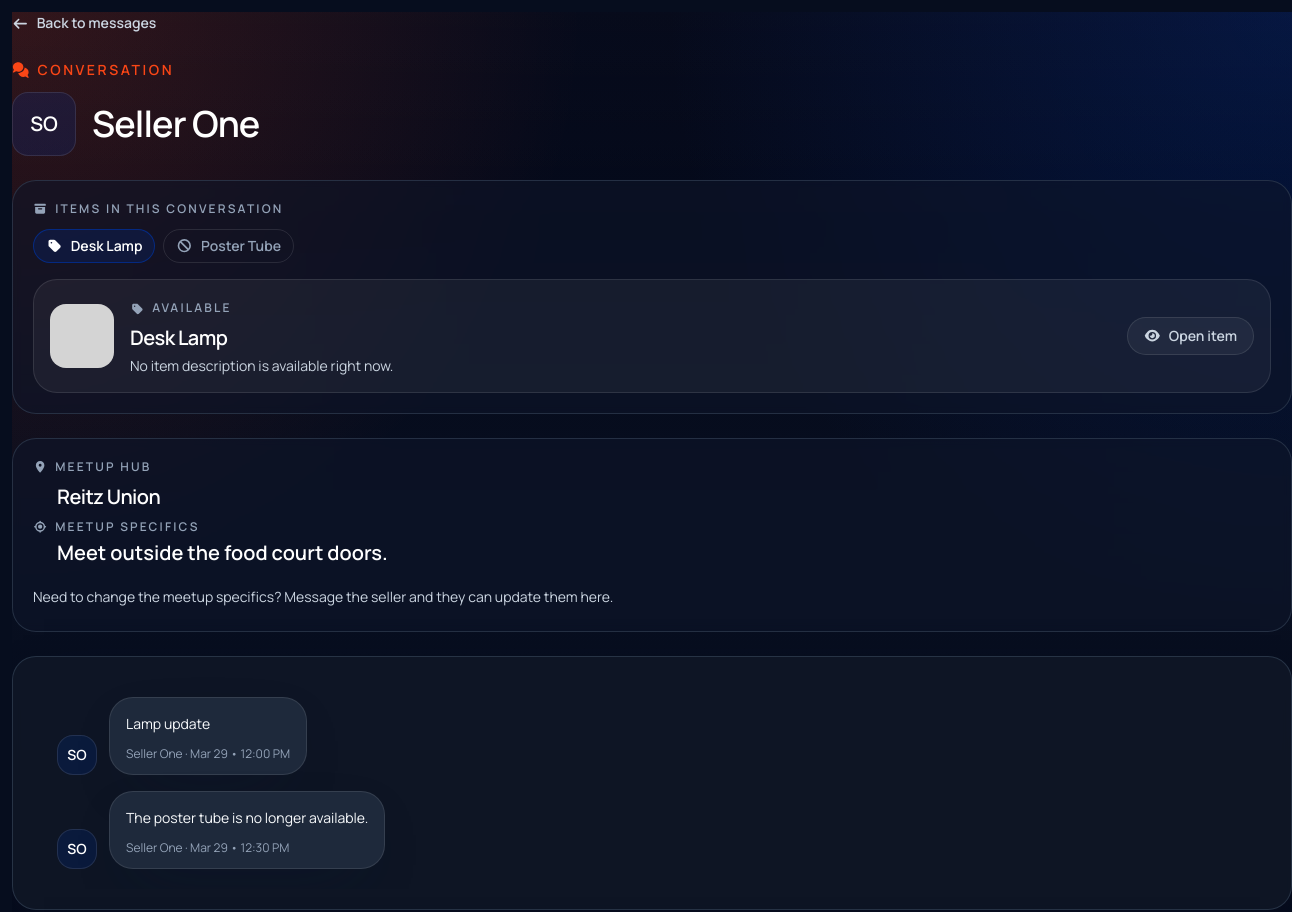
it: unavailable chips update the item details card while also jumping to the latest message context
The image size is (1292, 912).
Step 1. Click the button with aria-label "poster tube. unavailable." → (229, 246), box [164, 229, 294, 263]
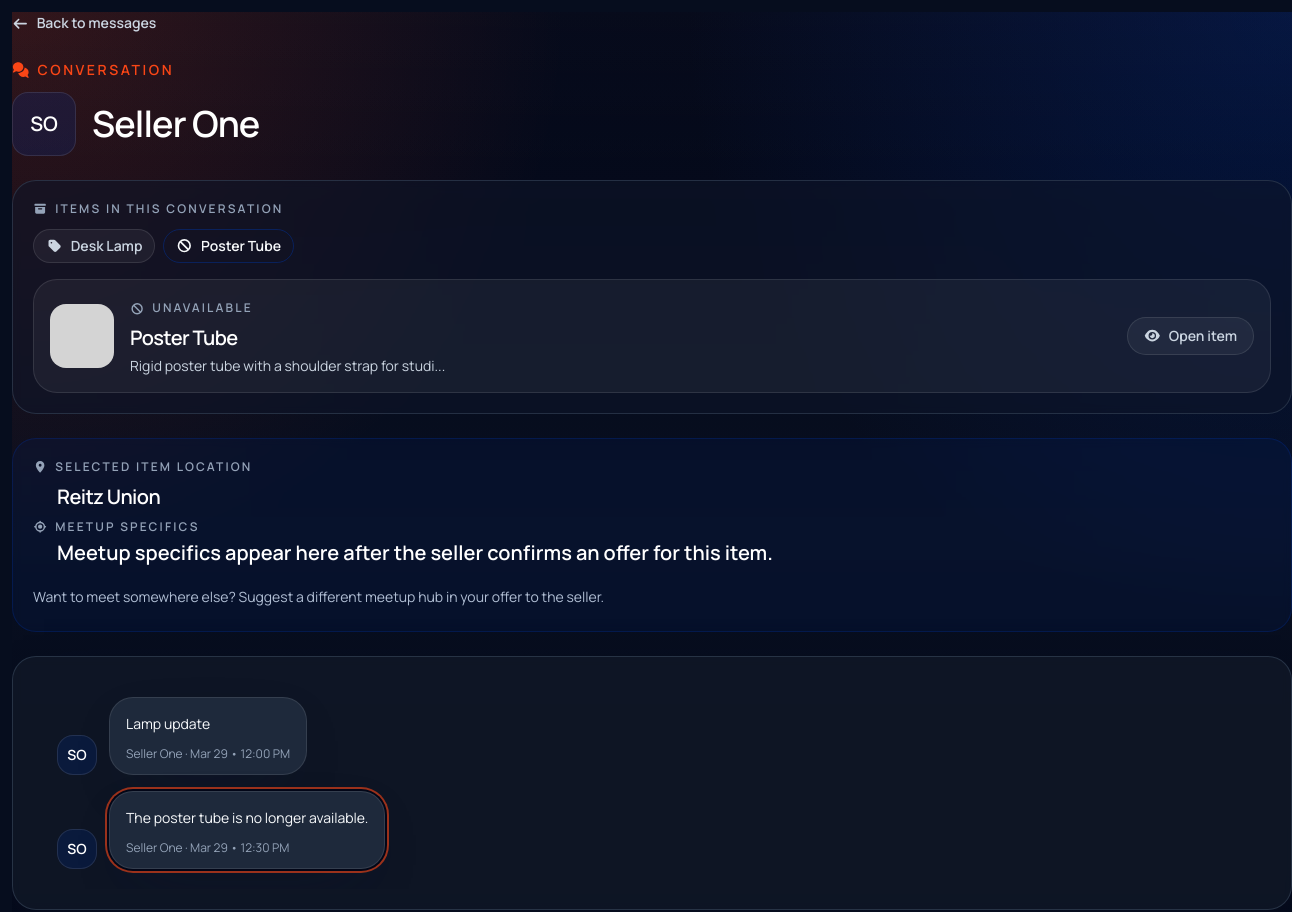
Expected: the text "Unavailable" is shown, [152, 300, 253, 316]
Expected: the text "Rigid poster tube with a shoulder strap for studi..." is shown, [130, 356, 445, 376]
